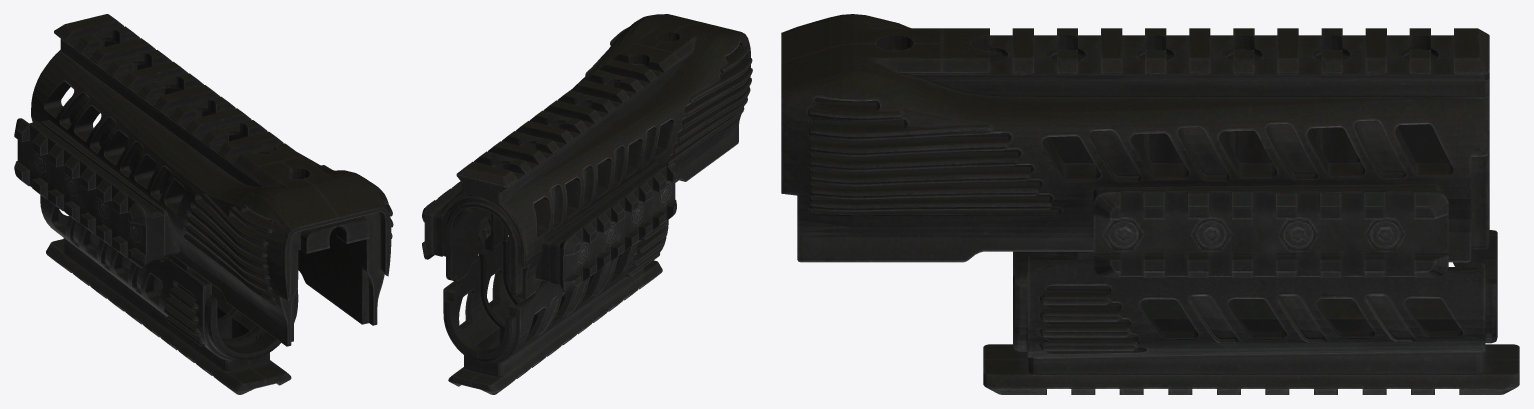
3 views of the same model, side by side, from view 1: azimuth 30°, elevation 25°; view 2: azimuth 150°, elevation 25°; view 3: azimuth 270°, elevation 25° (orthographic). The views are drawn at different scales.
Visible parts, largest first — view 1: TW_5648ae314bdc2d3d1c8b457f_PZ_Import; view 2: TW_5648ae314bdc2d3d1c8b457f_PZ_Import; view 3: TW_5648ae314bdc2d3d1c8b457f_PZ_Import.
Boxes of the visible parts, bbox=[...] form: TW_5648ae314bdc2d3d1c8b457f_PZ_Import: bbox=[14, 14, 393, 394]; TW_5648ae314bdc2d3d1c8b457f_PZ_Import: bbox=[422, 14, 752, 394]; TW_5648ae314bdc2d3d1c8b457f_PZ_Import: bbox=[781, 14, 1519, 394].
Bounding box in the file's own units: 0.0366 × 0.0971 × 0.0488.
1 material, 1 textured.
